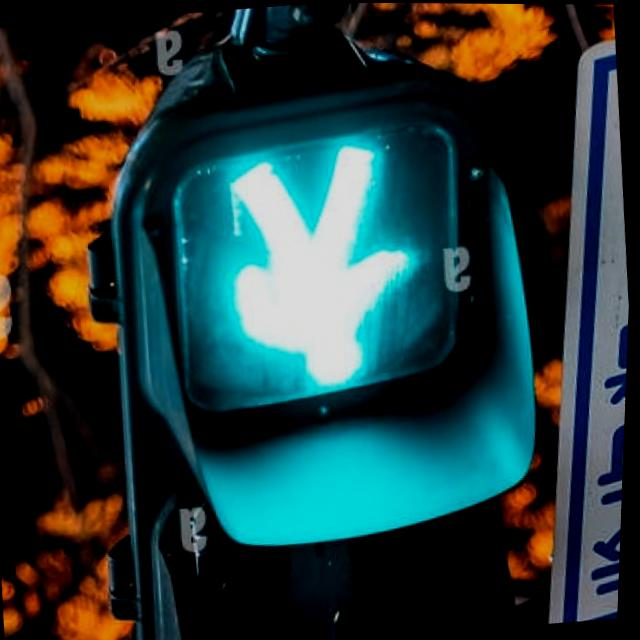green_light: (202, 142, 428, 402)
